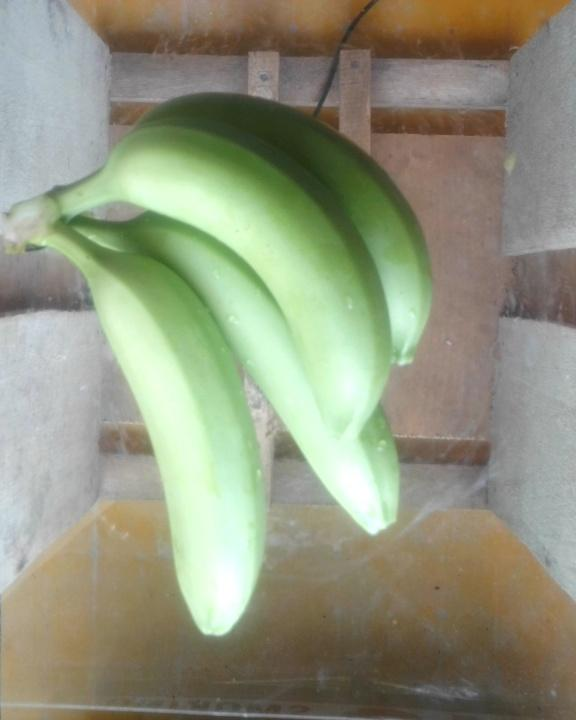SPOT: (12, 84, 486, 650)
